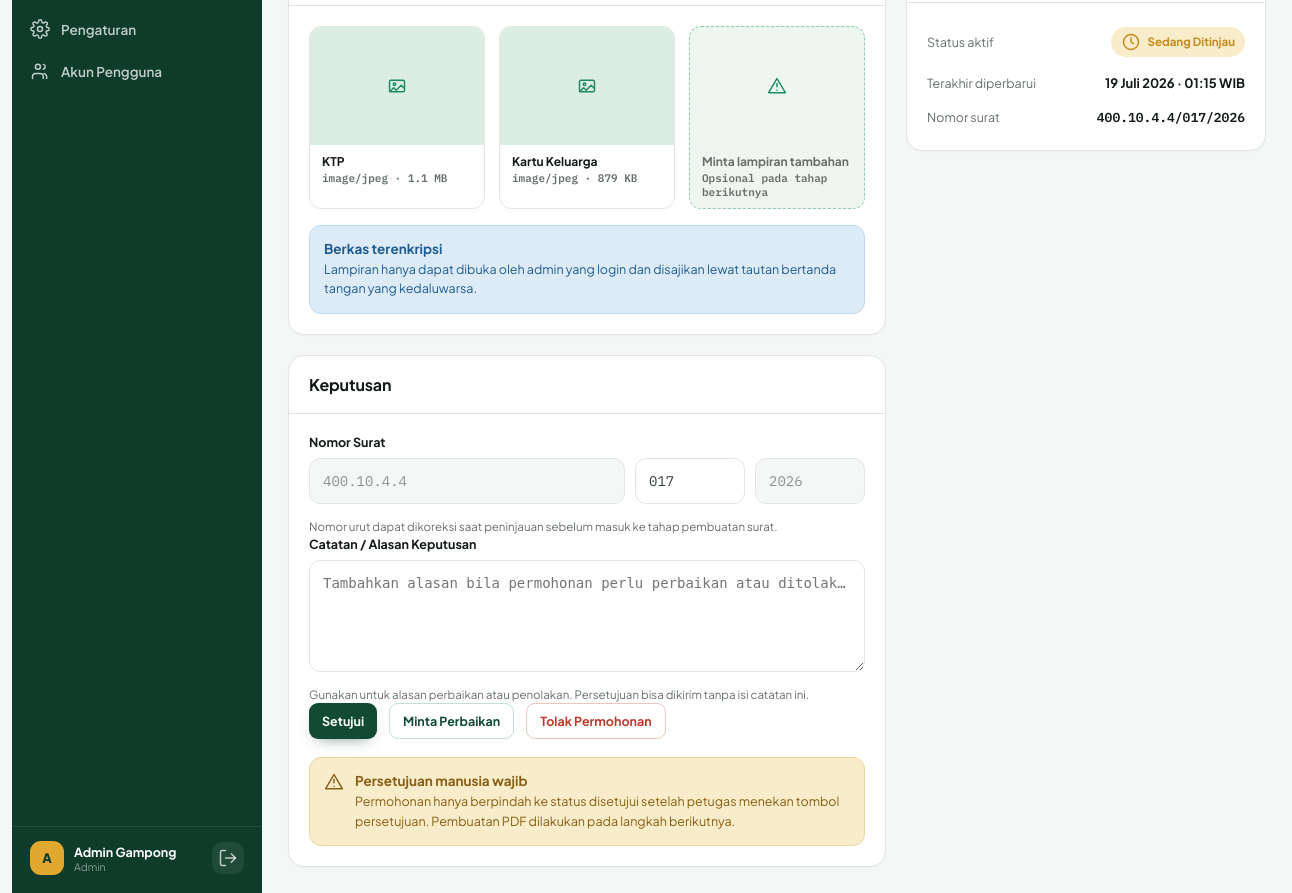
Test: request queue and review flow › disables decision actions and shows progress while an action is pending
This screenshot has width=1292, height=893.
(page scrolled)
Step 1. Click the button "Setujui" → (343, 721), box top-left (309, 703), bottom-right (377, 739)
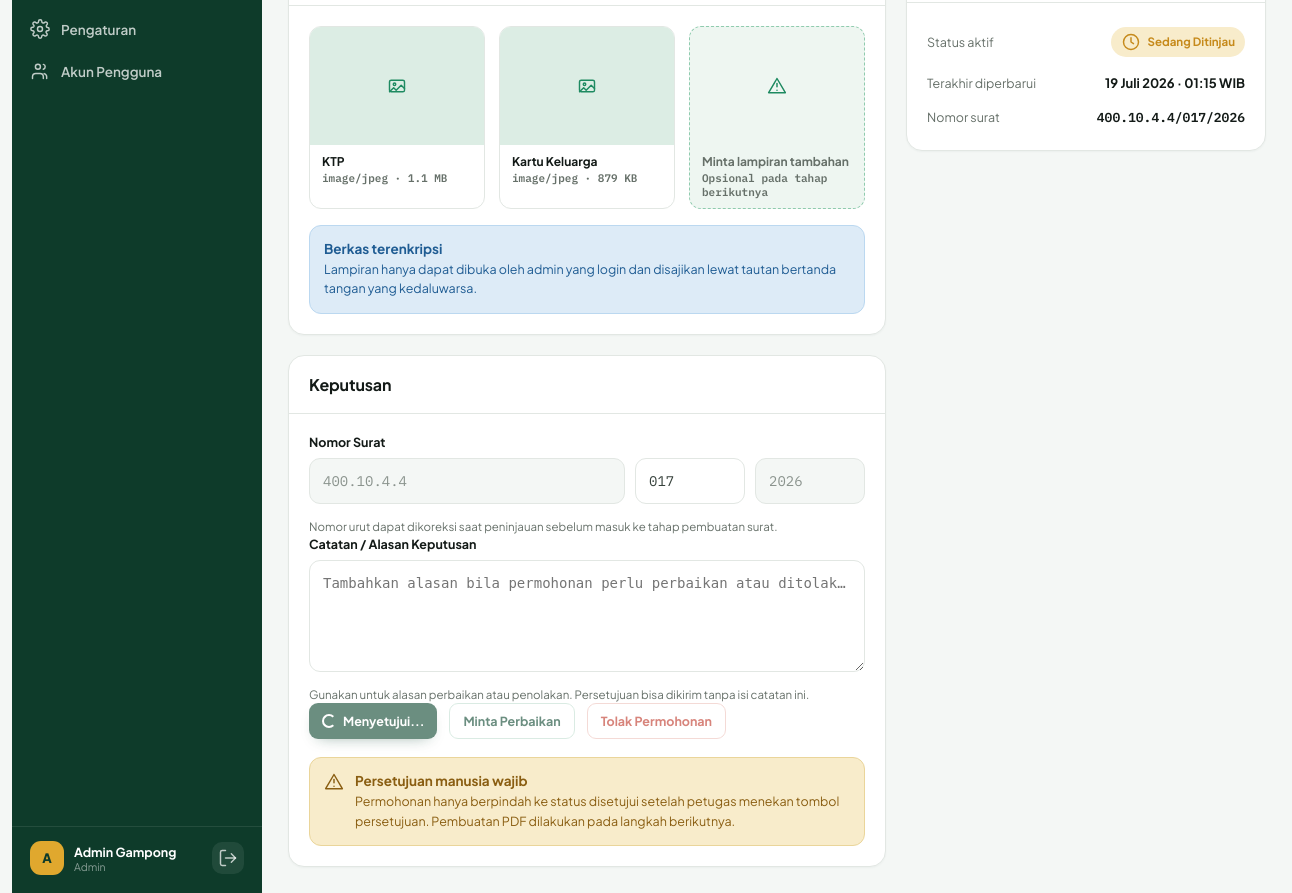
Check: the button "Menyetujui..." is disabled, box top-left (309, 703), bottom-right (437, 739)
Check: the button "Minta Perbaikan" is disabled, box top-left (449, 703), bottom-right (575, 739)
Check: the button "Tolak Permohonan" is disabled, box top-left (587, 703), bottom-right (726, 739)
